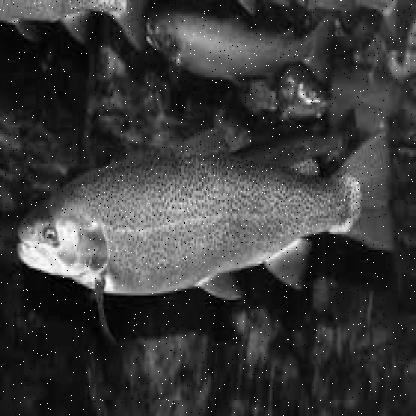fish: (13, 128, 390, 310), (144, 2, 334, 92)
